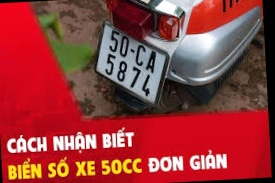Bien-so: (93, 20, 174, 111)
